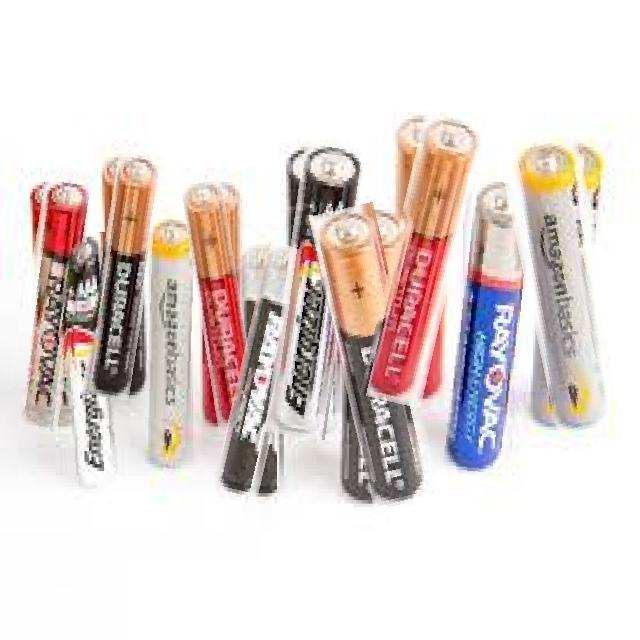Battery: (499, 128, 632, 442), (312, 192, 433, 524), (450, 158, 529, 507), (278, 138, 360, 451), (392, 106, 473, 412), (178, 176, 253, 440), (21, 168, 87, 449), (139, 212, 198, 484), (234, 229, 290, 500), (97, 150, 155, 401), (66, 238, 118, 495)
